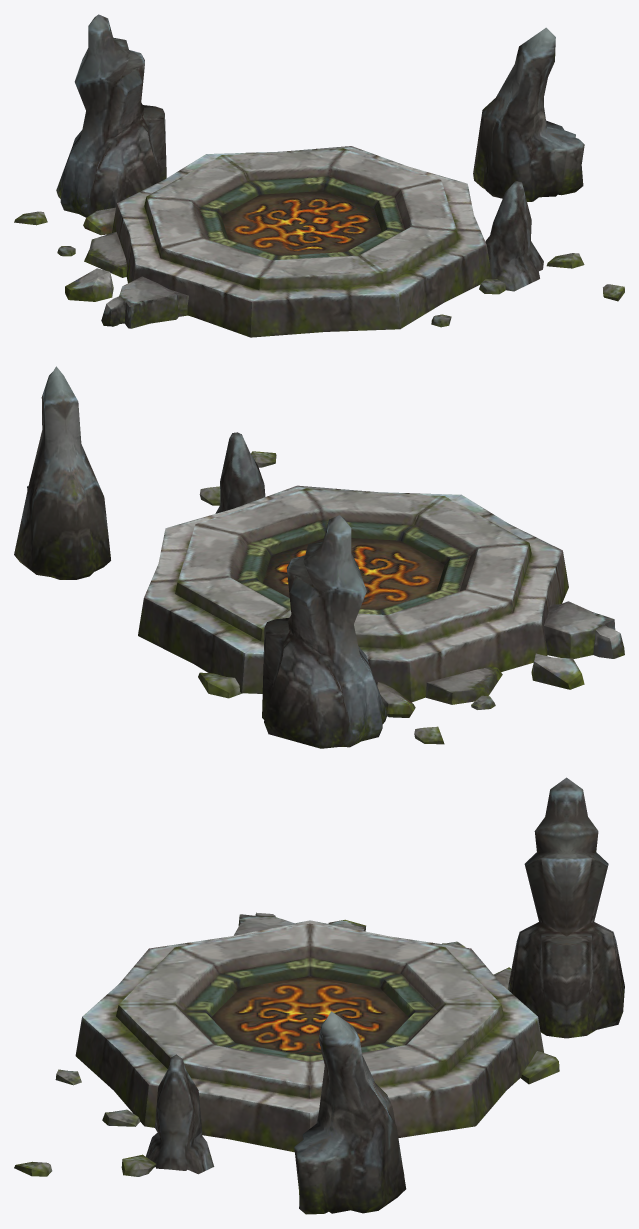
File: Map01_Stone_Group_01.FBX
The picture shows the model from 3 angles, top to bottom: view 1: azimuth 30°, elevation 25°; view 2: azimuth 150°, elevation 25°; view 3: azimuth 270°, elevation 25°; orthographic projection. The views are drawn at different scales.
Visible parts, largest first — view 1: Map01_Stone_Group_01; view 2: Map01_Stone_Group_01; view 3: Map01_Stone_Group_01.
Boxes of the visible parts, x1,y1,x2,y2 form: Map01_Stone_Group_01: (14,14,624,337); Map01_Stone_Group_01: (14,366,624,748); Map01_Stone_Group_01: (14,777,624,1214).
Size of the model in its own units: 80.16 by 31.55 by 71.33.
